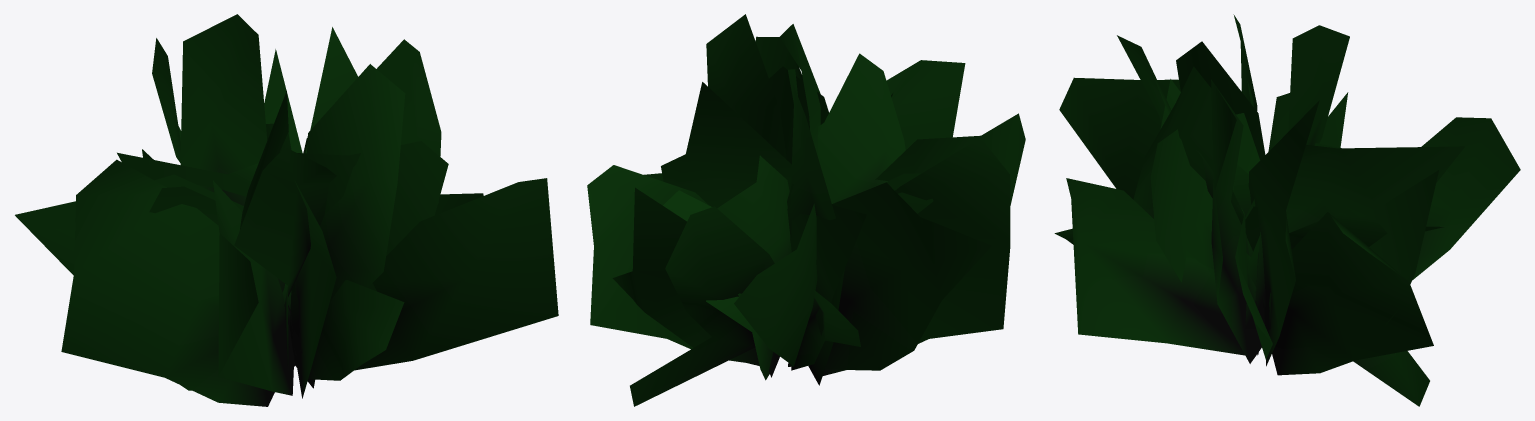
Rendered from GrassTallDryGCATA_E.fbx.
3 views of the same model, side by side, from view 1: azimuth 30°, elevation 25°; view 2: azimuth 150°, elevation 25°; view 3: azimuth 270°, elevation 25° (orthographic). The views are drawn at different scales.
Parts seen in each view (by area): view 1: GTDE_LOD0; view 2: GTDE_LOD0; view 3: GTDE_LOD0.
Boxes of the visible parts, bbox=[...] form: GTDE_LOD0: bbox=[15, 14, 558, 406]; GTDE_LOD0: bbox=[587, 14, 1025, 406]; GTDE_LOD0: bbox=[1054, 14, 1520, 406].
Size of what is drawn, in the model's own units: 1.82 by 1.45 by 1.85.
